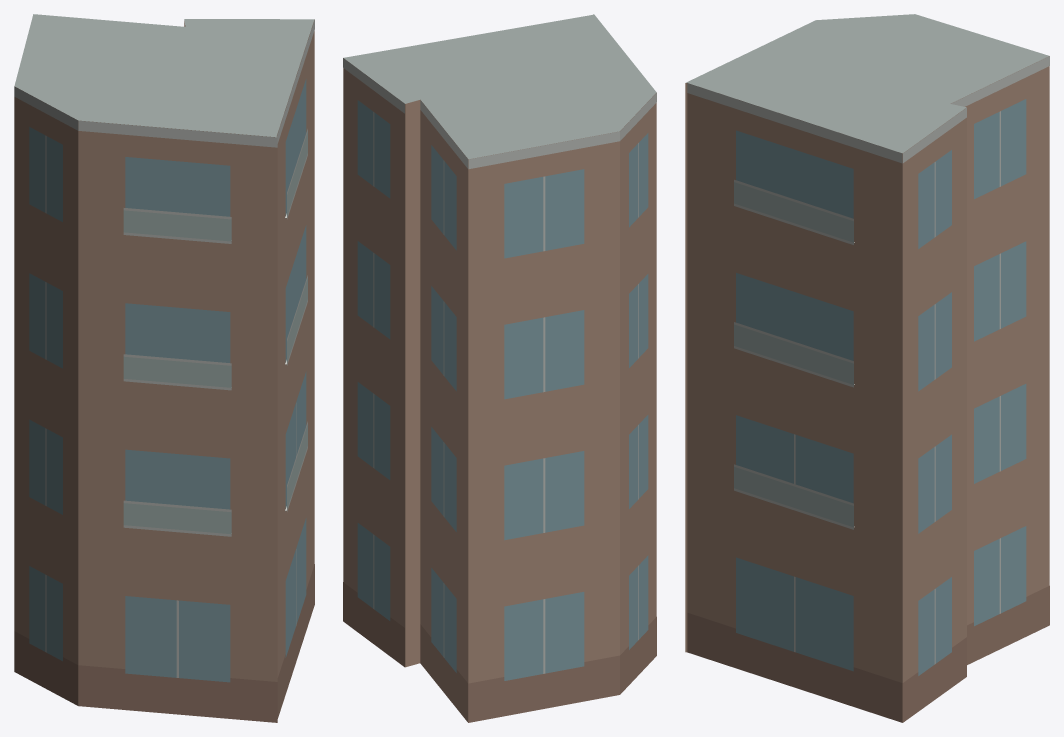
The model's file is survey-upis-32462489.glb.
3 views of the same model, side by side, from view 1: azimuth 30°, elevation 25°; view 2: azimuth 150°, elevation 25°; view 3: azimuth 270°, elevation 25° (orthographic). The views are drawn at different scales.
Visible parts, largest first — view 1: survey-upis-32462489.tmp; view 2: survey-upis-32462489.tmp; view 3: survey-upis-32462489.tmp.
Part boxes in pixels (left/top/right/bottom): survey-upis-32462489.tmp: left=14, top=14, right=314, bottom=722; survey-upis-32462489.tmp: left=343, top=14, right=656, bottom=722; survey-upis-32462489.tmp: left=685, top=14, right=1049, bottom=722.
Size of the model in its own units: 7.26 by 13.8 by 8.01.
